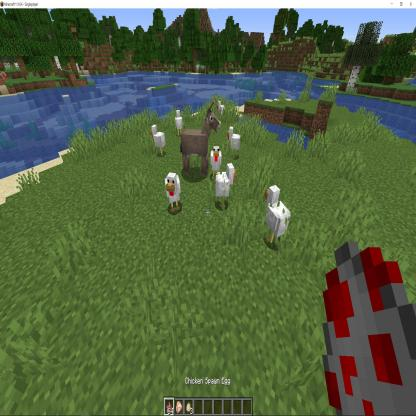minecraft-pigs: (187, 145, 236, 281), (178, 65, 192, 95)
